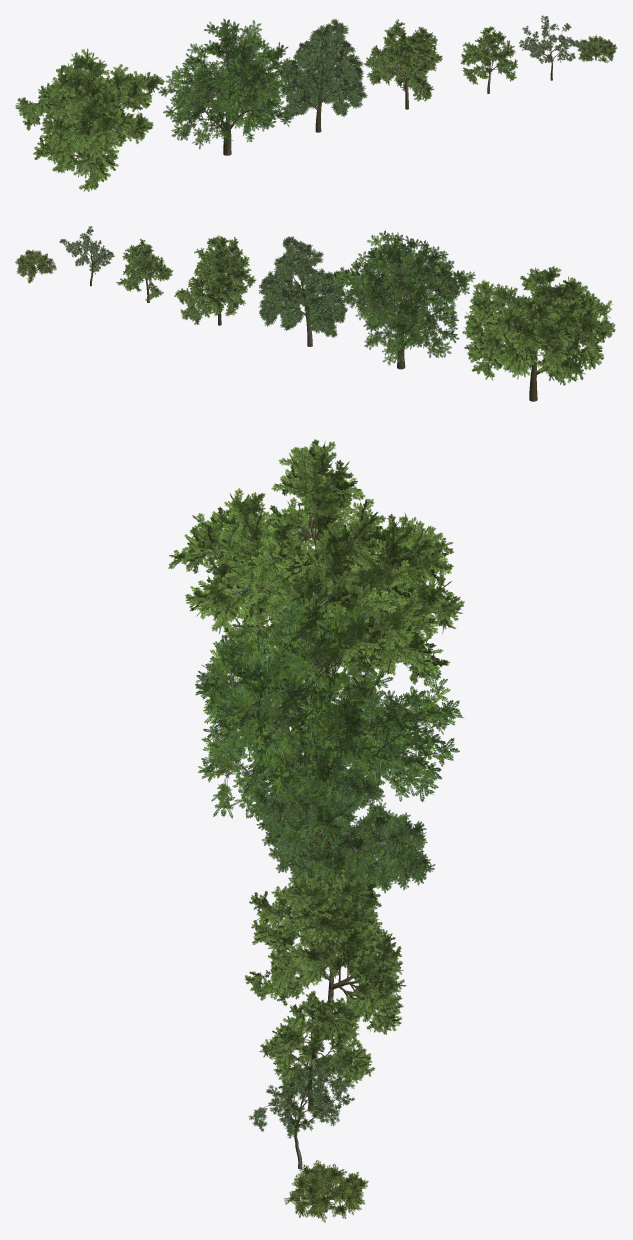
File: treeweb.glb
The picture shows the model from 3 angles, top to bottom: view 1: azimuth 30°, elevation 25°; view 2: azimuth 150°, elevation 25°; view 3: azimuth 270°, elevation 25°; orthographic projection. The views are drawn at different scales.
Visible parts, largest first — view 1: Tree EZTree0.Large_leaves_0, Tree EZTree0.Medium010_leaves.010_0, Tree EZTree0.Large_branches_0, Tree EZTree1.Bush006_leaves.006_0; view 2: Tree EZTree0.Medium010_leaves.010_0, Tree EZTree0.Large_leaves_0, Tree EZTree0.Large_branches_0, Tree EZTree1.Bush006_leaves.006_0; view 3: Tree EZTree0.Medium010_leaves.010_0, Tree EZTree0.Large_leaves_0, Tree EZTree0.Large_branches_0, Tree EZTree1.Bush006_leaves.006_0.
Boxes of the visible parts, left/top/right/bottom form: Tree EZTree0.Large_leaves_0: left=158, top=15, right=581, bottom=149; Tree EZTree0.Medium010_leaves.010_0: left=15, top=19, right=517, bottom=191; Tree EZTree0.Large_branches_0: left=29, top=20, right=572, bottom=188; Tree EZTree1.Bush006_leaves.006_0: left=577, top=35, right=617, bottom=62; Tree EZTree0.Medium010_leaves.010_0: left=116, top=235, right=615, bottom=385; Tree EZTree0.Large_leaves_0: left=59, top=226, right=475, bottom=365; Tree EZTree0.Large_branches_0: left=71, top=233, right=594, bottom=401; Tree EZTree1.Bush006_leaves.006_0: left=15, top=250, right=56, bottom=283; Tree EZTree0.Medium010_leaves.010_0: left=168, top=439, right=464, bottom=1101; Tree EZTree0.Large_leaves_0: left=195, top=592, right=463, bottom=1138; Tree EZTree0.Large_branches_0: left=213, top=487, right=437, bottom=1169; Tree EZTree1.Bush006_leaves.006_0: left=284, top=1160, right=368, bottom=1222.
Size of the model in its own units: 473 by 107 by 109.
5 materials, 5 textured.
